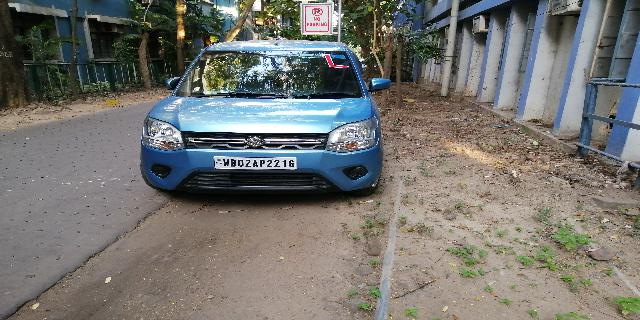Car: (134, 44, 391, 202)
